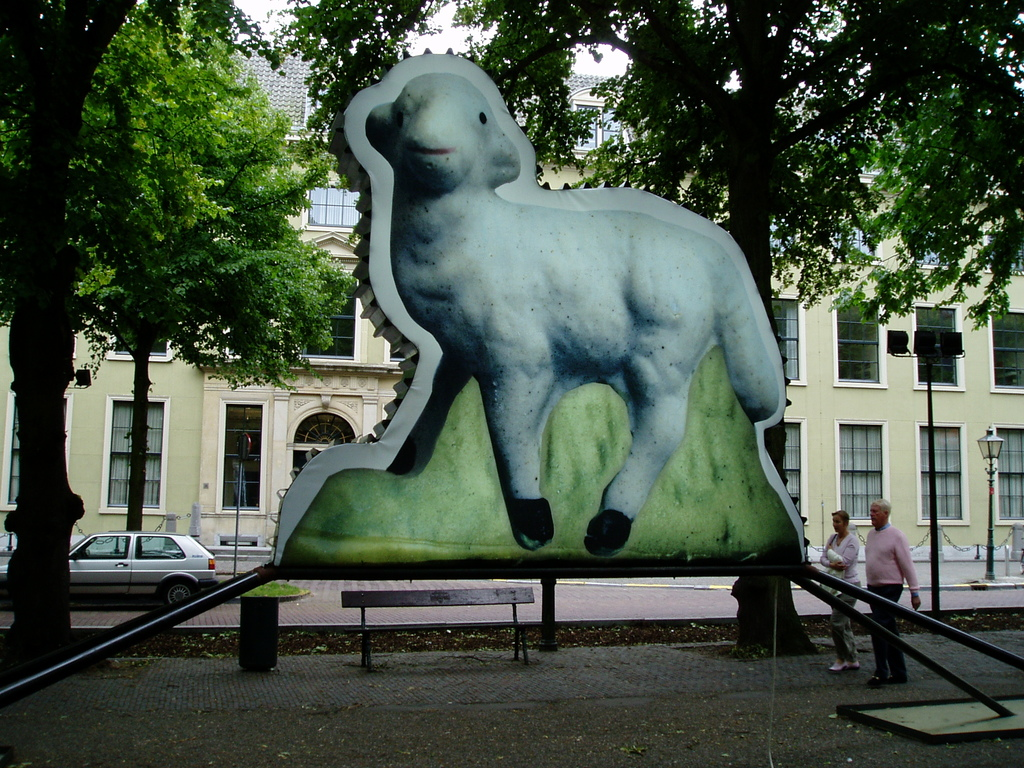Car: (59, 533, 239, 620)
